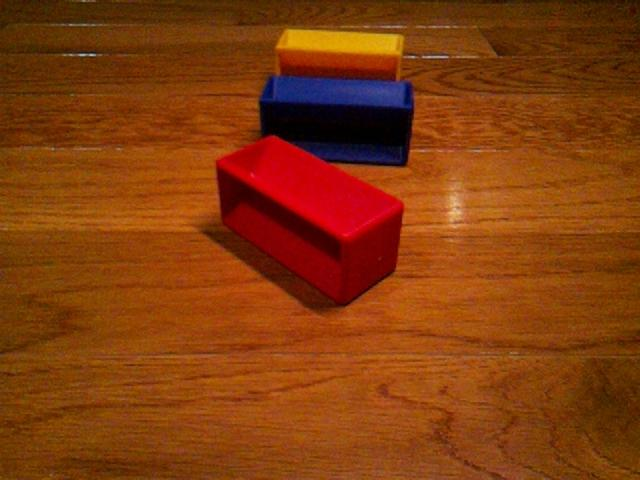blue: (258, 73, 416, 166)
red: (214, 134, 406, 306)
yellow: (274, 27, 405, 81)
